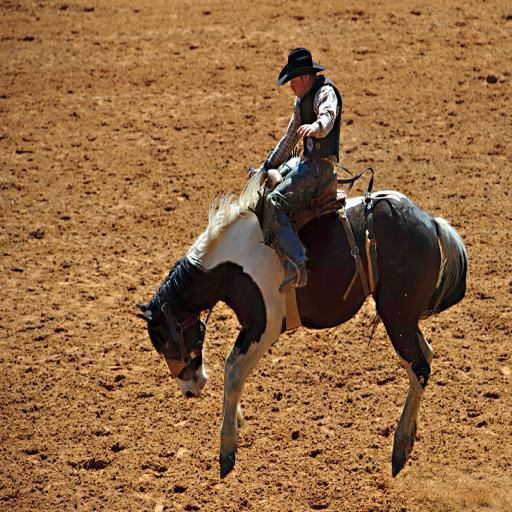horse: (132, 166, 468, 482)
